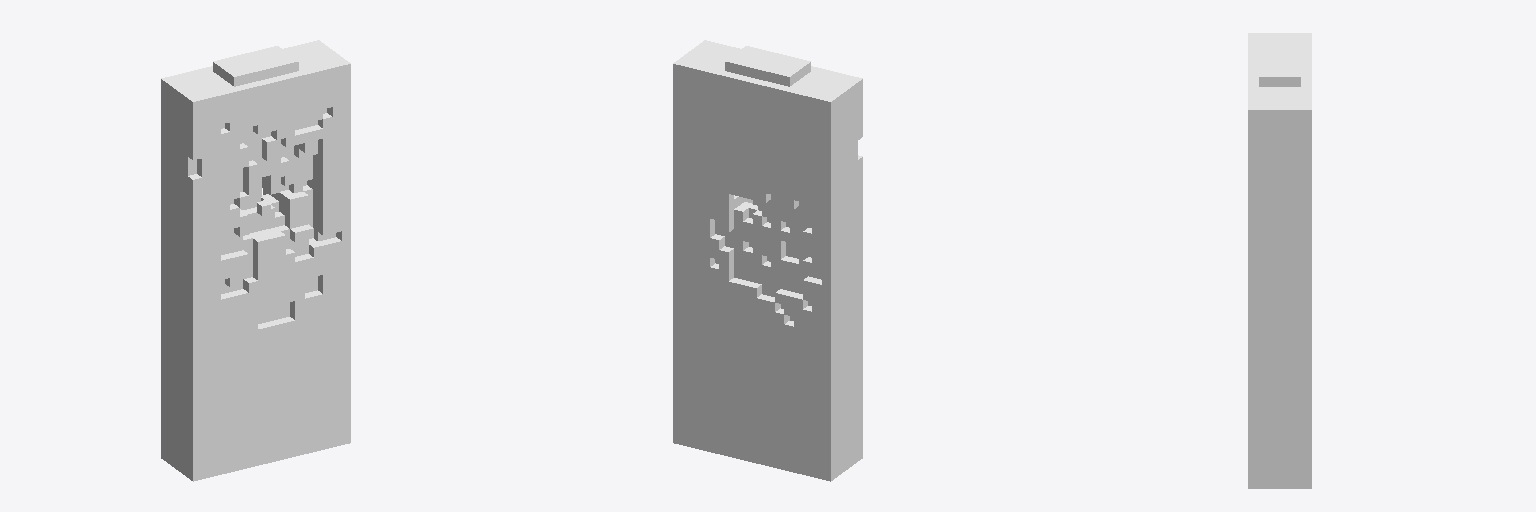
The model's file is fastZombie-3.obj.
3 renders of one model, left to right at view 1: azimuth 30°, elevation 25°; view 2: azimuth 150°, elevation 25°; view 3: azimuth 270°, elevation 25°, orthographic.
Visible parts, largest first — view 1: object 1; view 2: object 1; view 3: object 1.
Part boxes in pixels (x1,y1,x2,y2): object 1: (161, 40, 350, 481); object 1: (673, 40, 862, 481); object 1: (1248, 33, 1311, 488).
Size of the model in its own units: 1.7 by 4 by 0.6.